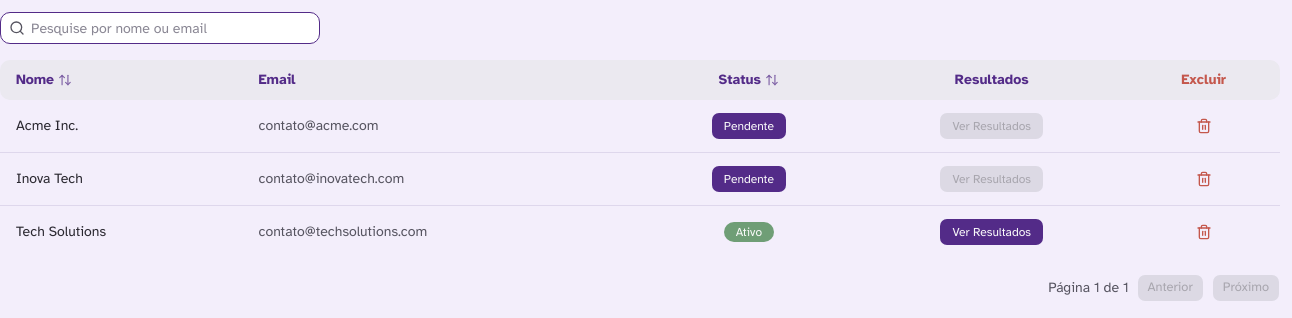
CompanyTable › filtra as empresas pelo campo de pesquisa
The width and height of the screenshot is (1292, 318).
Type "Acme" into the search field named "Pesquisar empresas por nome ou email". click: coordinates (172, 28)
box: [25,13,319,43]
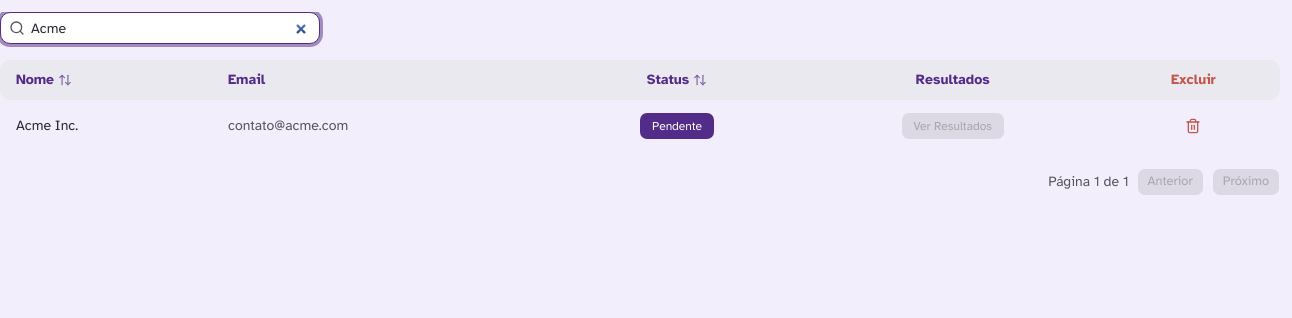
Expected: the text "Acme Inc." is shown, [0,100,212,152]
Now the text "Tech Solutions" is gone
Now the text "Inova Tech" is gone
